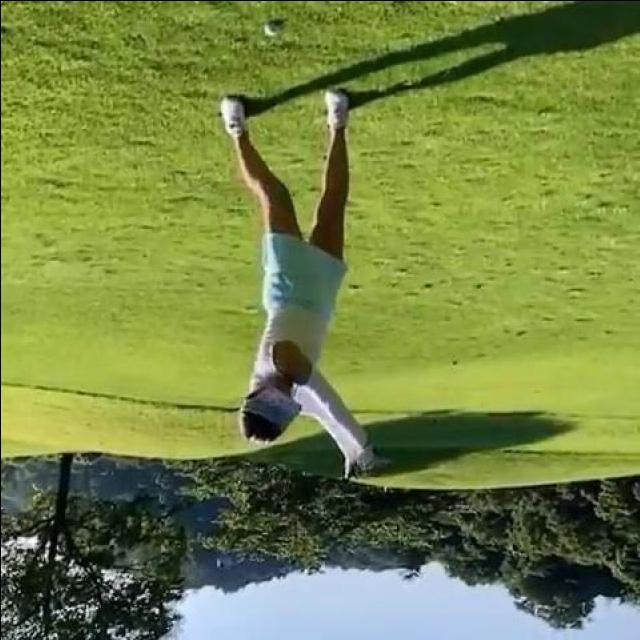golf ball: (261, 18, 280, 36)
golf club-handle: (212, 469, 353, 568)
golf club-head: (215, 557, 232, 569)
